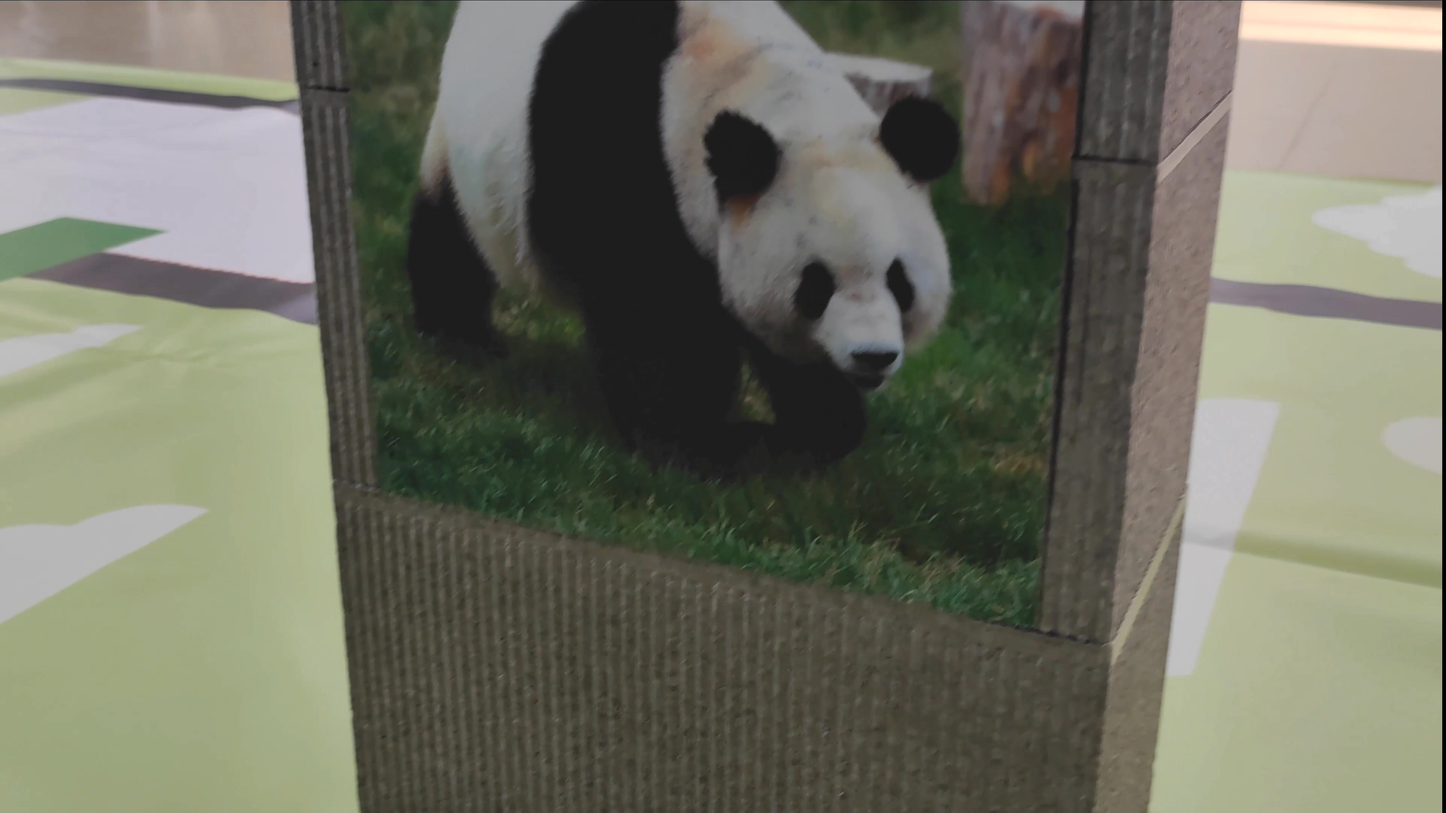panda: (401, 6, 1043, 481)
